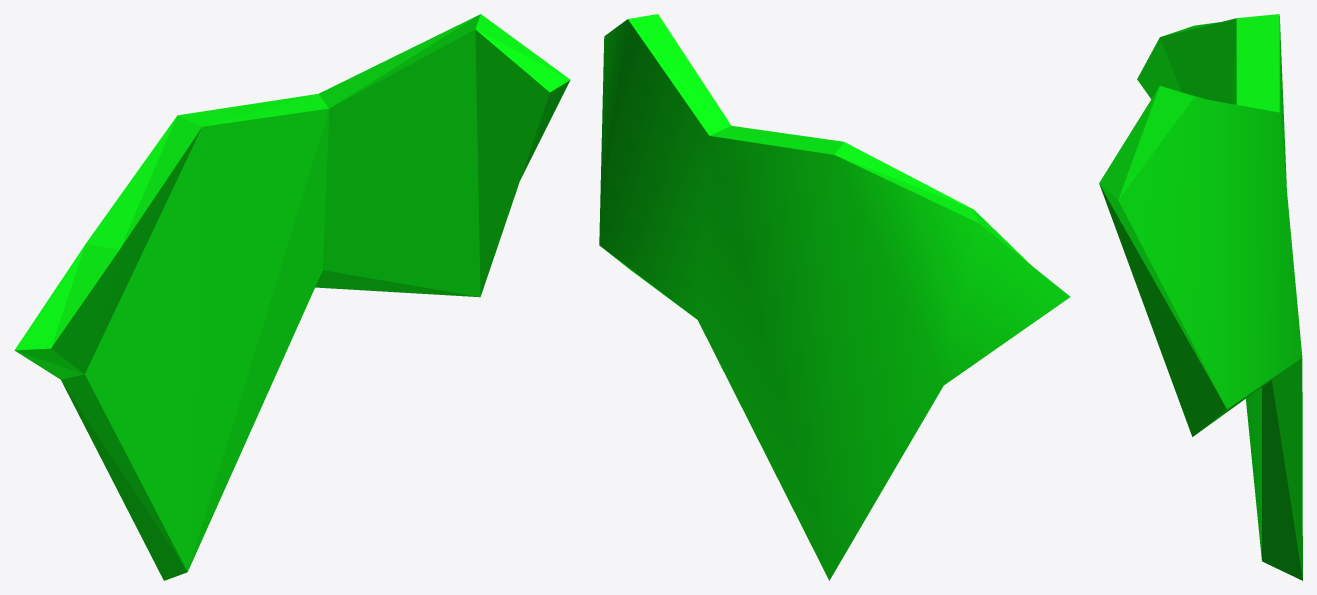
File: metal_piece_H.FBX
3 views of the same model, side by side, from view 1: azimuth 30°, elevation 25°; view 2: azimuth 150°, elevation 25°; view 3: azimuth 270°, elevation 25° (orthographic). The views are drawn at different scales.
Visible parts, largest first — view 1: metal_piece_H; view 2: metal_piece_H; view 3: metal_piece_H.
Part boxes in pixels (left/top/right/bottom): metal_piece_H: left=14, top=14, right=570, bottom=580; metal_piece_H: left=599, top=14, right=1070, bottom=580; metal_piece_H: left=1099, top=14, right=1302, bottom=580.
Size of the model in its own units: 2.37 by 2.24 by 0.6421.
